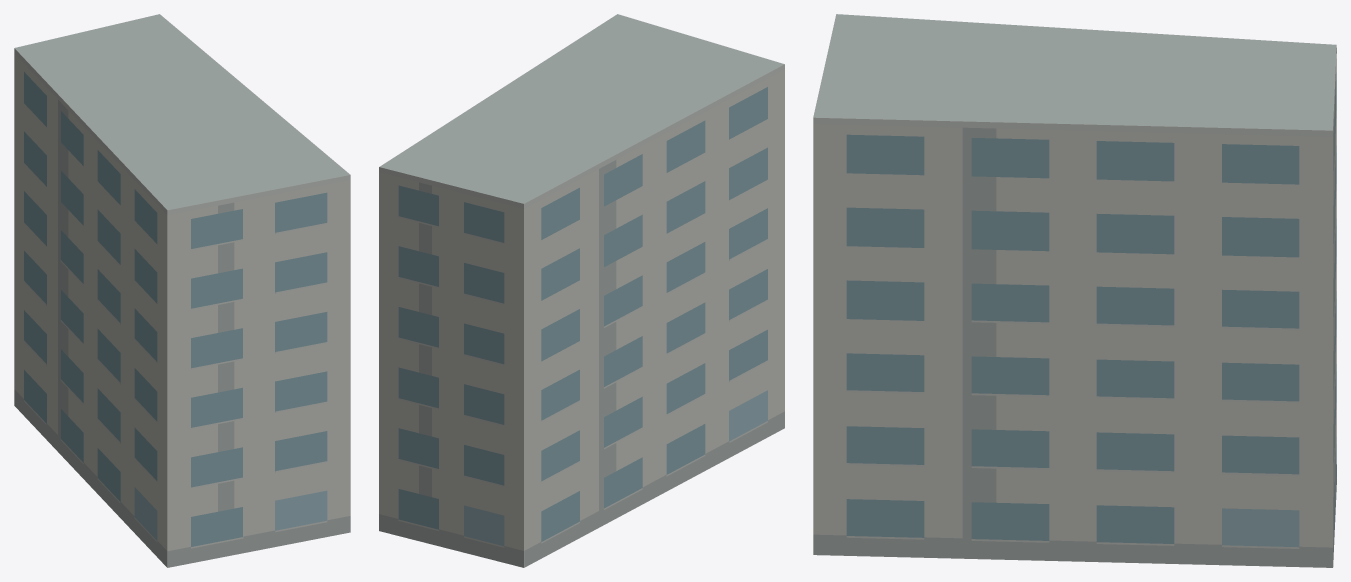
The model's file is survey-upis-32942317.glb.
3 views of the same model, side by side, from view 1: azimuth 30°, elevation 25°; view 2: azimuth 150°, elevation 25°; view 3: azimuth 270°, elevation 25° (orthographic). The views are drawn at different scales.
Visible parts, largest first — view 1: survey-upis-32942317.tmp; view 2: survey-upis-32942317.tmp; view 3: survey-upis-32942317.tmp.
Boxes of the visible parts, x1=… form: survey-upis-32942317.tmp: x1=14, y1=14, x2=350, y2=567; survey-upis-32942317.tmp: x1=379, y1=14, x2=784, y2=567; survey-upis-32942317.tmp: x1=813, y1=14, x2=1336, y2=567.
Bounding box in the file's own units: 9.79 × 17.1 × 18.57.
